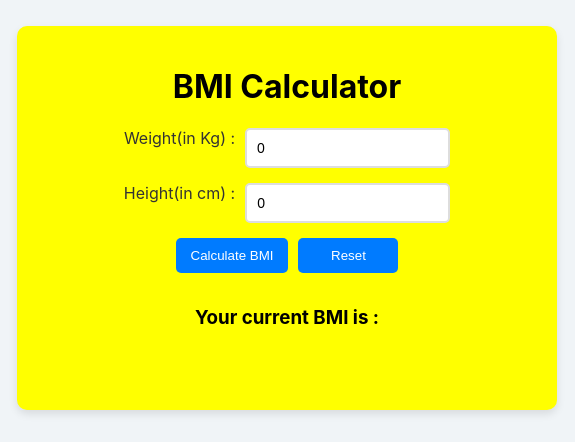
BMI-Calculator › reset button clears the inputs and messages
The width and height of the screenshot is (575, 442).
// Set some values
Replace the text in the field with class "weight-input" with "70" at (348, 148), box [245, 128, 450, 168]
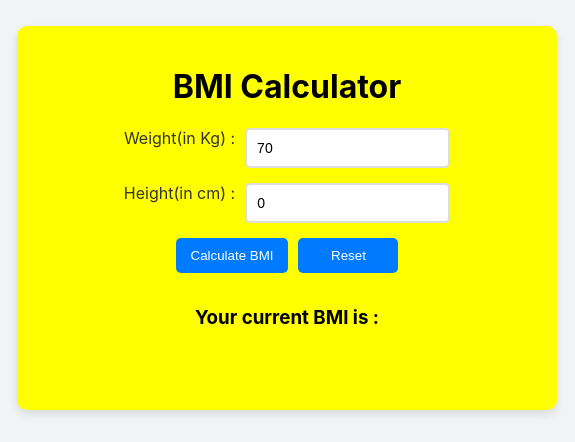
Replace the text in the field with class "height-input" with "170" at (348, 203), box [245, 183, 450, 223]
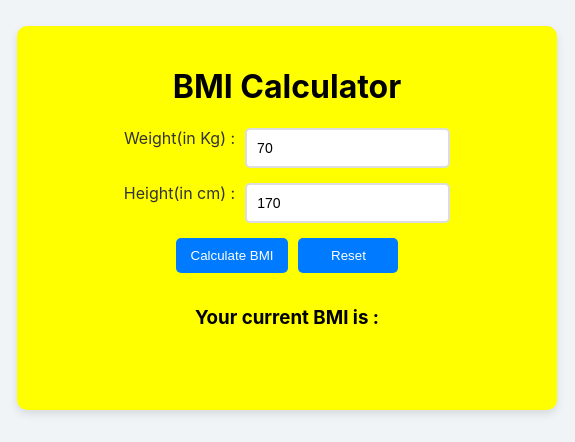
Click the button "Calculate BMI" at (232, 255), box [176, 238, 288, 273]
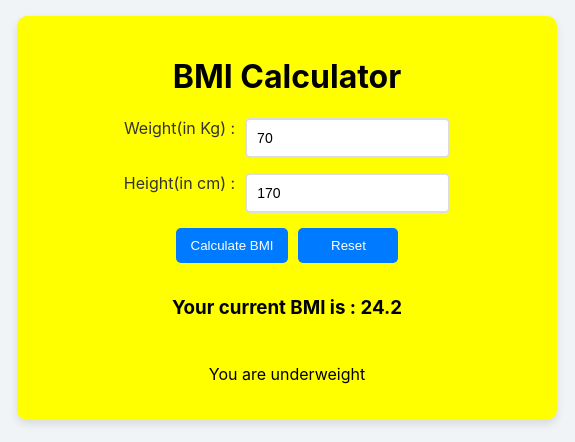
Click the button "Reset" at (348, 245), box [298, 228, 398, 263]
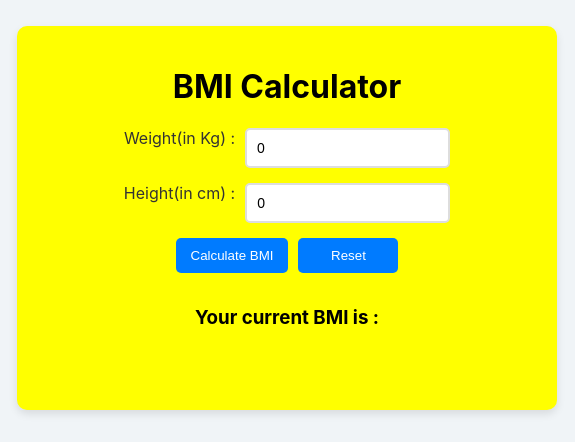
Result: the field with class "weight-input" holds "0" at [245, 128, 450, 168]
Result: the field with class "height-input" holds "0" at [245, 183, 450, 223]
Result: the heading "Your current BMI is :" is shown at [195, 306, 379, 329]
